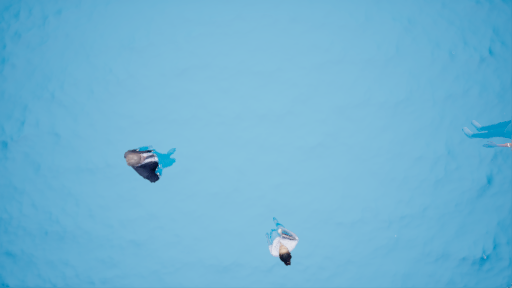person: (121, 143, 183, 187), (259, 216, 304, 271)
